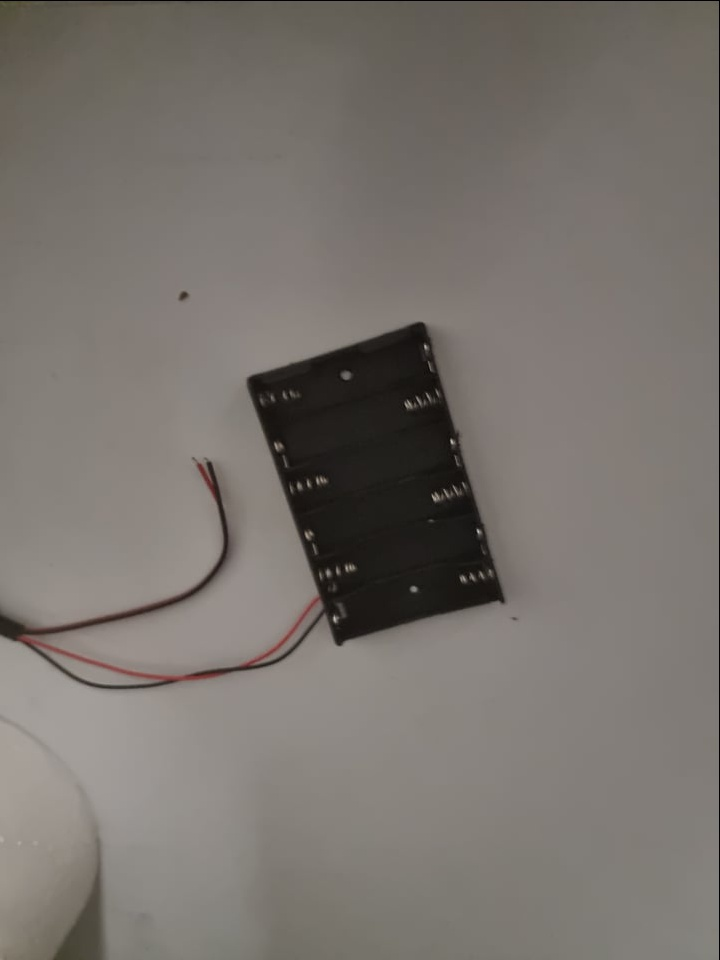BATTERY BOX: (249, 312, 514, 650)
